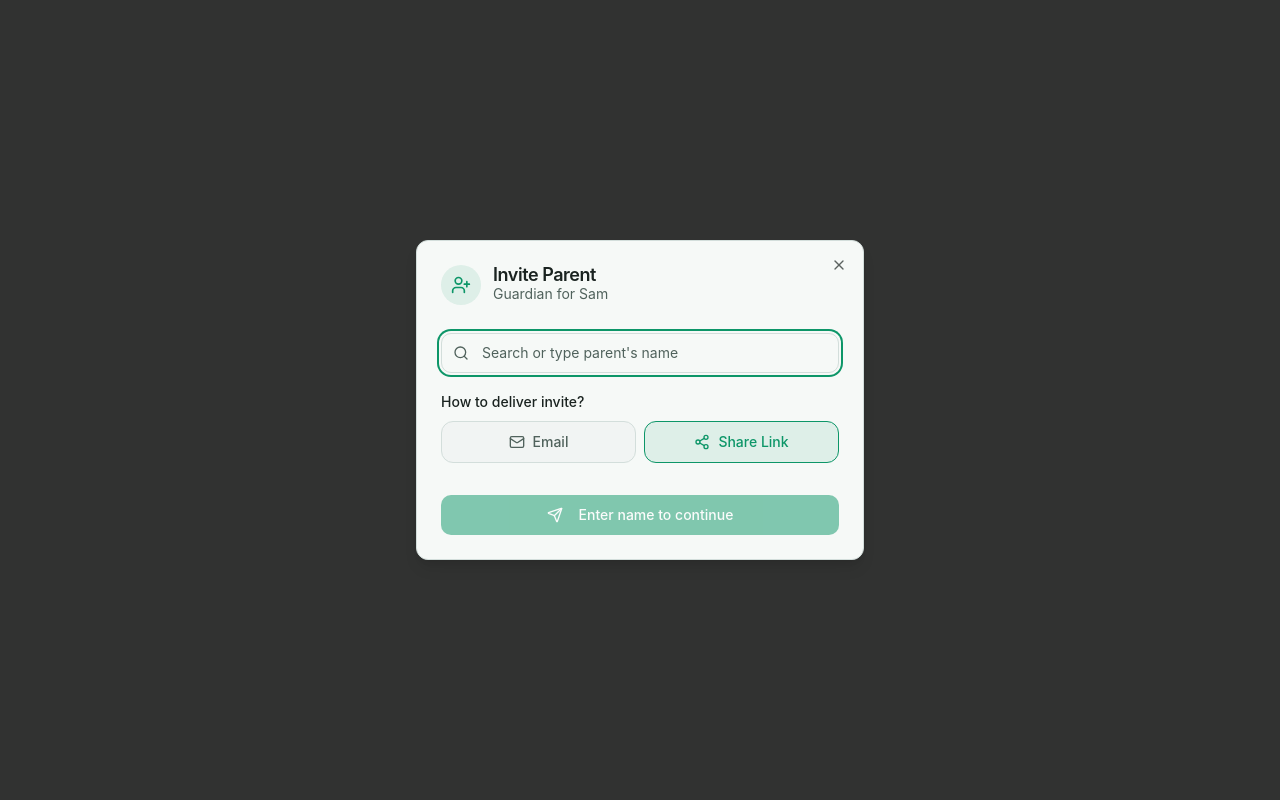
it: email delivery verification › 14b. share delivery never claims an email was sent
The width and height of the screenshot is (1280, 800).
Type "Jo Parent" into the field with placeholder "Search or type parent's name" at (640, 353), box [441,333,839,373]
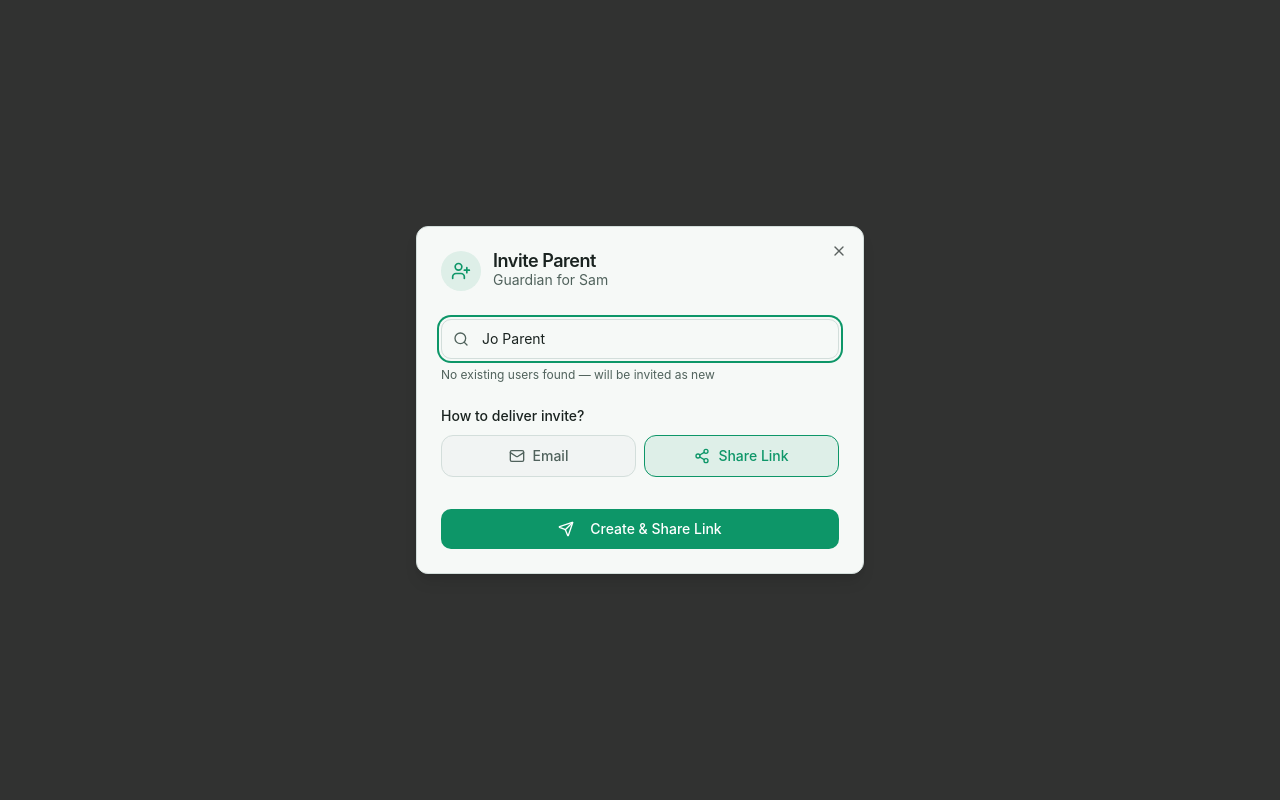
Click the button "Create & Share Link" at (640, 529), box [441,509,839,549]
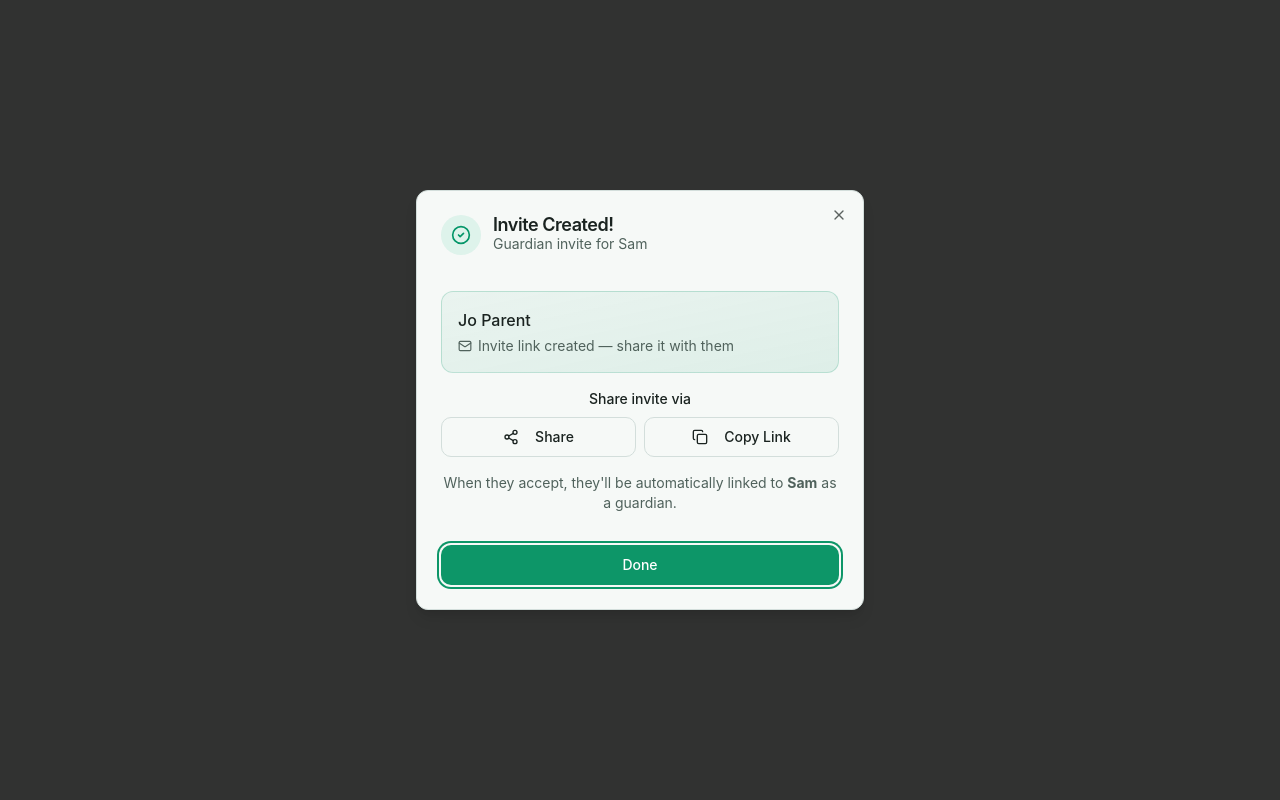
expect the text "Invite link created — share it with them" is shown: met, box [458,337,734,354]
